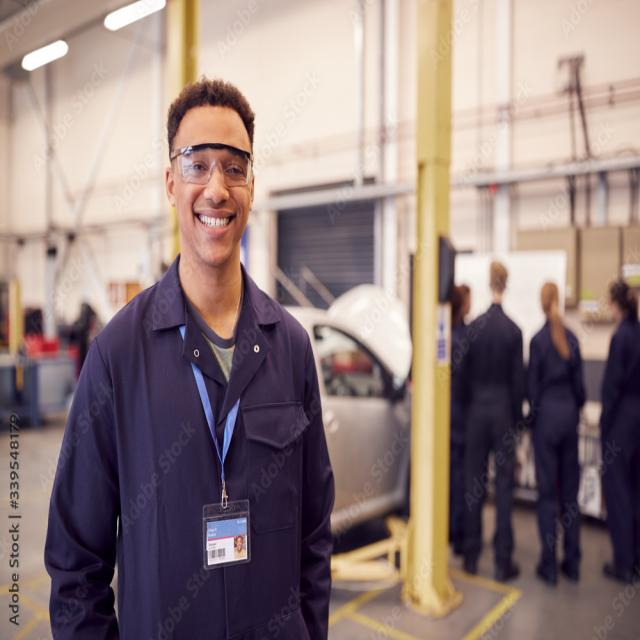Goggles: (169, 137, 254, 188)
